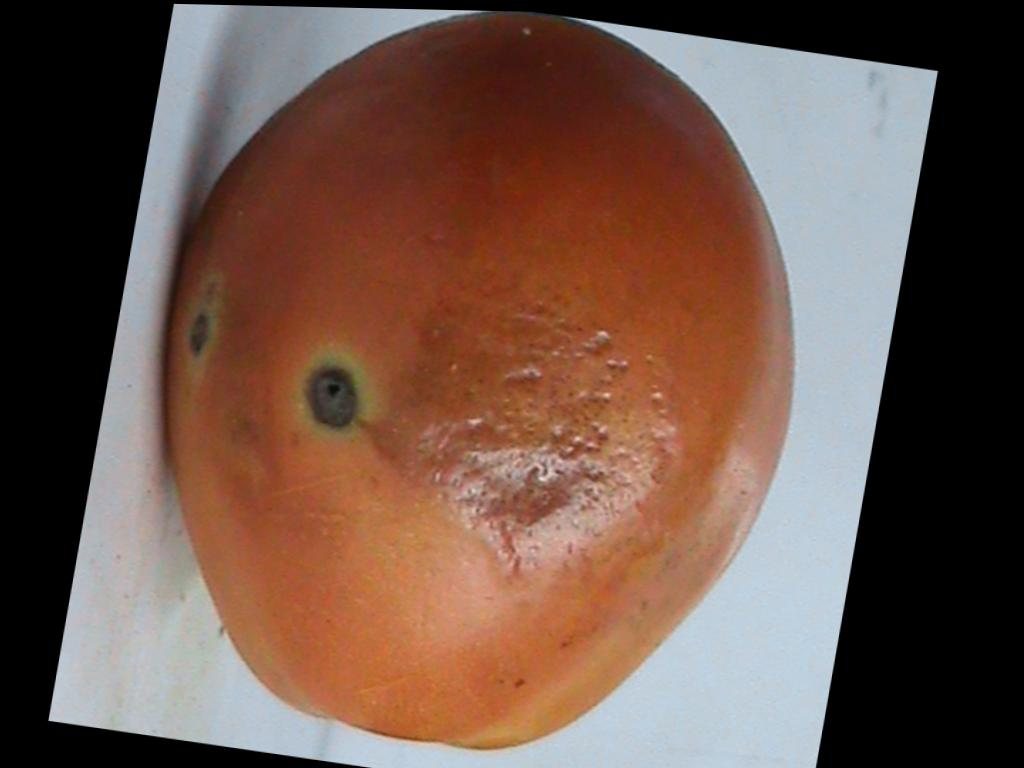bruise_discoloration: (363, 262, 673, 574)
surface_damage: (302, 361, 360, 430), (189, 307, 214, 363)
tomato: (169, 11, 791, 747)
